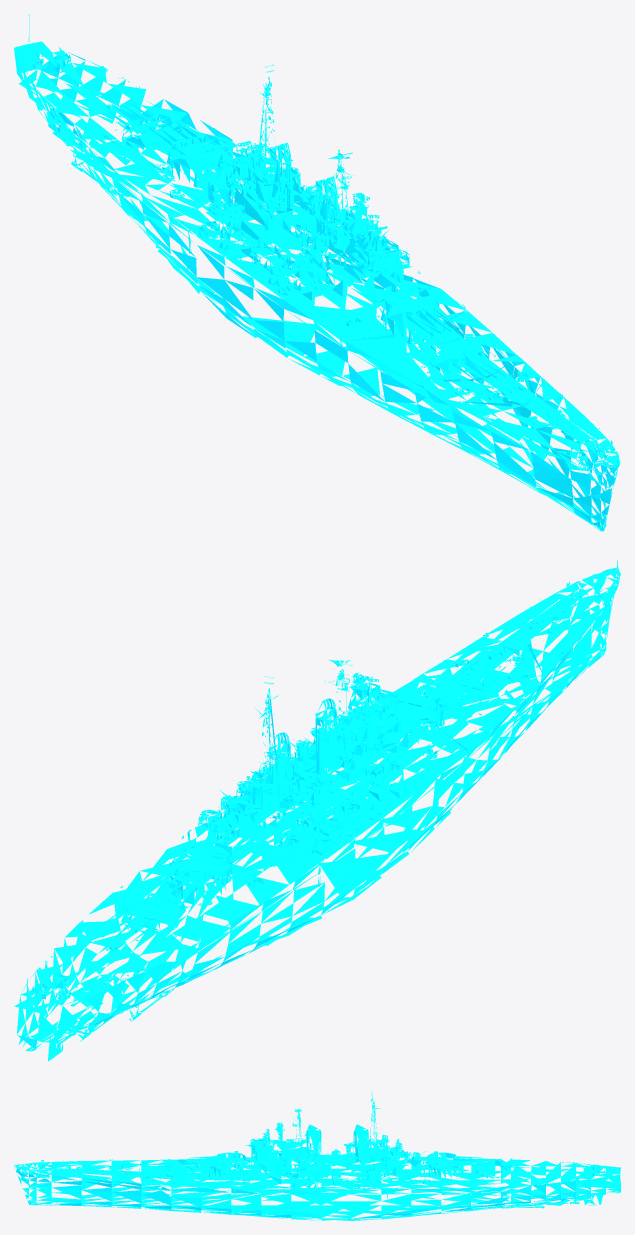
File: PBSB111.glb
3 renders of one model, top to bottom at view 1: azimuth 30°, elevation 25°; view 2: azimuth 150°, elevation 25°; view 3: azimuth 270°, elevation 25°, orthographic. The views are drawn at different scales.
Parts seen in each view (by area): view 1: hull_mid, hull_bow, hull_stern, main_battery, aa_mount, secondary_battery, hull_body; view 2: hull_mid, hull_bow, hull_stern, main_battery, aa_mount, secondary_battery, hull_body; view 3: hull_mid, hull_bow, hull_stern, main_battery, aa_mount, secondary_battery, hull_body.
Part boxes in pixels (left/top/right/bottom): hull_mid: left=114, top=81, right=521, bottom=434; hull_bow: left=412, top=355, right=620, bottom=531; hull_stern: left=14, top=14, right=232, bottom=221; main_battery: left=105, top=101, right=505, bottom=382; aa_mount: left=36, top=47, right=523, bottom=396; secondary_battery: left=198, top=195, right=409, bottom=295; hull_body: left=227, top=140, right=387, bottom=236; hull_mid: left=114, top=660, right=522, bottom=973; hull_bow: left=412, top=560, right=620, bottom=758; hull_stern: left=14, top=892, right=232, bottom=1061; main_battery: left=102, top=660, right=505, bottom=943; aa_mount: left=35, top=649, right=528, bottom=996; secondary_battery: left=198, top=755, right=416, bottom=855; hull_body: left=229, top=672, right=388, bottom=811; hull_mid: left=152, top=1099, right=471, bottom=1220; hull_bow: left=14, top=1159, right=171, bottom=1210; hull_stern: left=471, top=1158, right=620, bottom=1210; main_battery: left=142, top=1151, right=529, bottom=1176; aa_mount: left=126, top=1144, right=600, bottom=1182; secondary_battery: left=290, top=1149, right=381, bottom=1187; hull_body: left=262, top=1122, right=402, bottom=1160.
Size of the model in its own units: 2.55 by 4.1 by 19.75.
